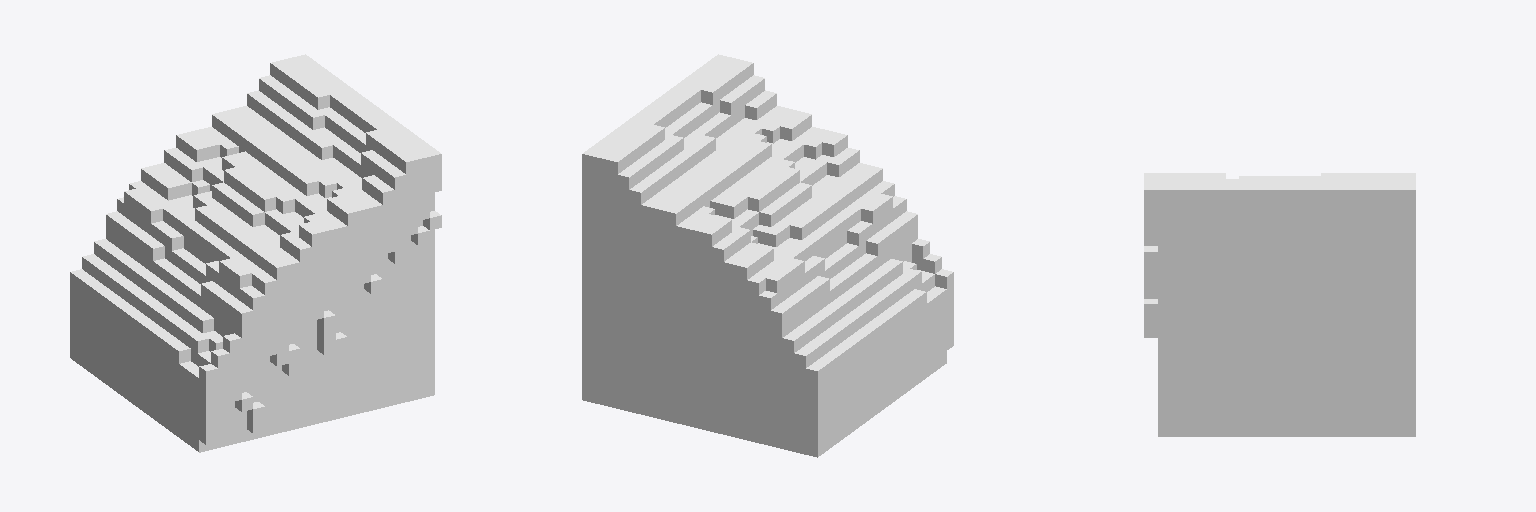
Rendered from GrassBlockSlantLeft.obj.
The picture shows the model from 3 angles: view 1: azimuth 30°, elevation 25°; view 2: azimuth 150°, elevation 25°; view 3: azimuth 270°, elevation 25°; orthographic projection.
Bounding box in the file's own units: 20 × 20 × 20.